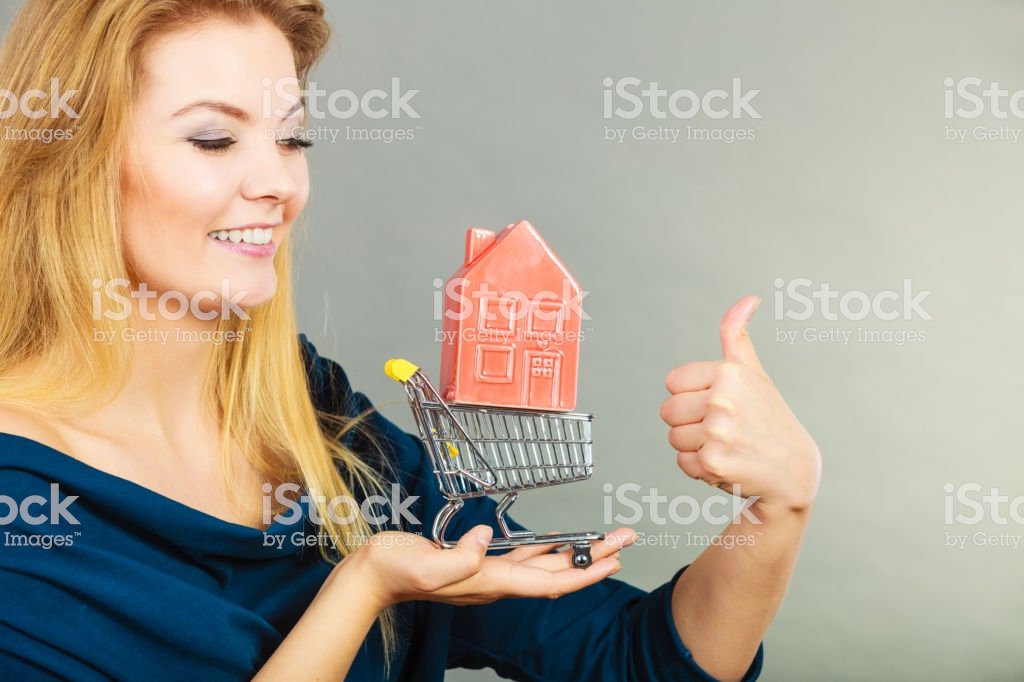thumbsup: (660, 291, 773, 495)
